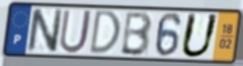6: (154, 12, 183, 59)
B: (119, 11, 154, 58)
D: (87, 9, 122, 56)
N: (26, 8, 65, 55)
U: (178, 12, 221, 60), (57, 9, 94, 56)
